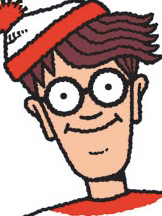waldo: (1, 1, 149, 178)
